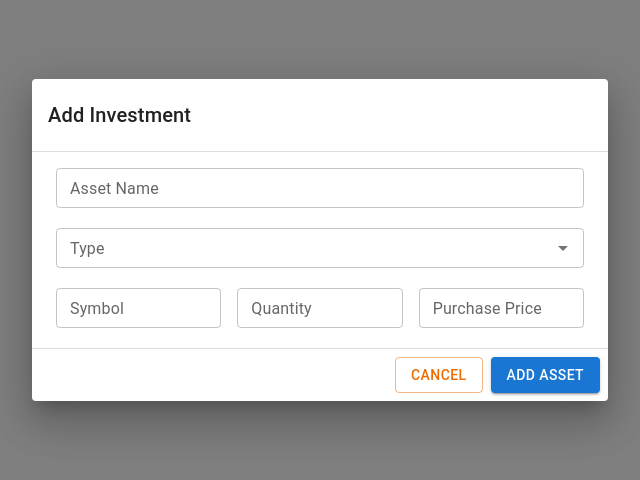
Test case: AssetDialog › Add Investment › should validate the form
This screenshot has width=640, height=480.
Click the button with test id "AssetDialog.SubmitButton": [546, 376] box x1=491 y1=357 x2=601 y2=394
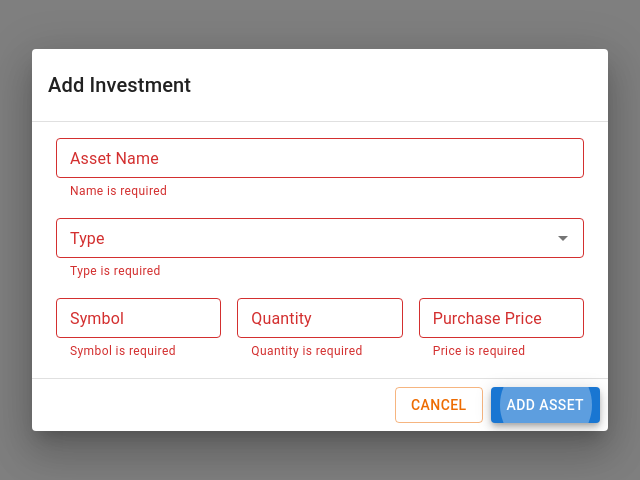
Expected: the number of elements with test id "PFTextField.HelperText" is 4, x1=70 y1=184 x2=167 y2=198; x1=70 y1=344 x2=176 y2=358; x1=251 y1=344 x2=363 y2=358; x1=433 y1=344 x2=526 y2=358
Expected: the text with test id "PFTextField.HelperText" reads "Name is required", x1=70 y1=184 x2=167 y2=198
Expected: the text with test id "PFTextField.HelperText" reads "Symbol is required", x1=70 y1=344 x2=176 y2=358
